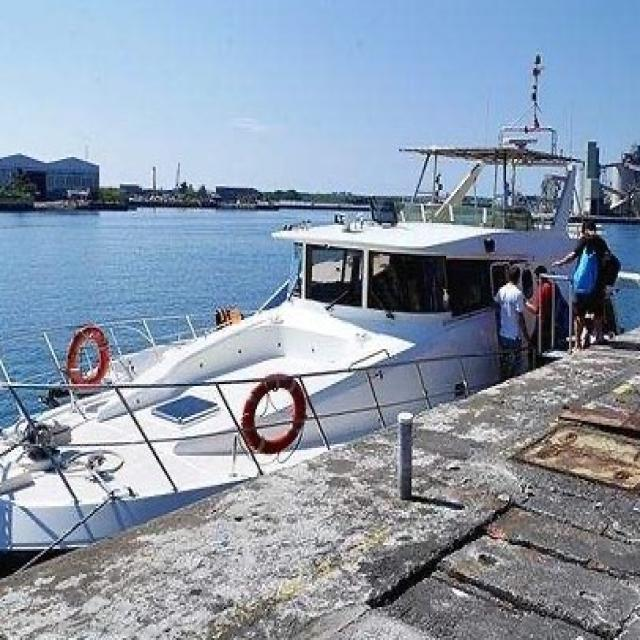houseboat: (0, 126, 624, 559)
